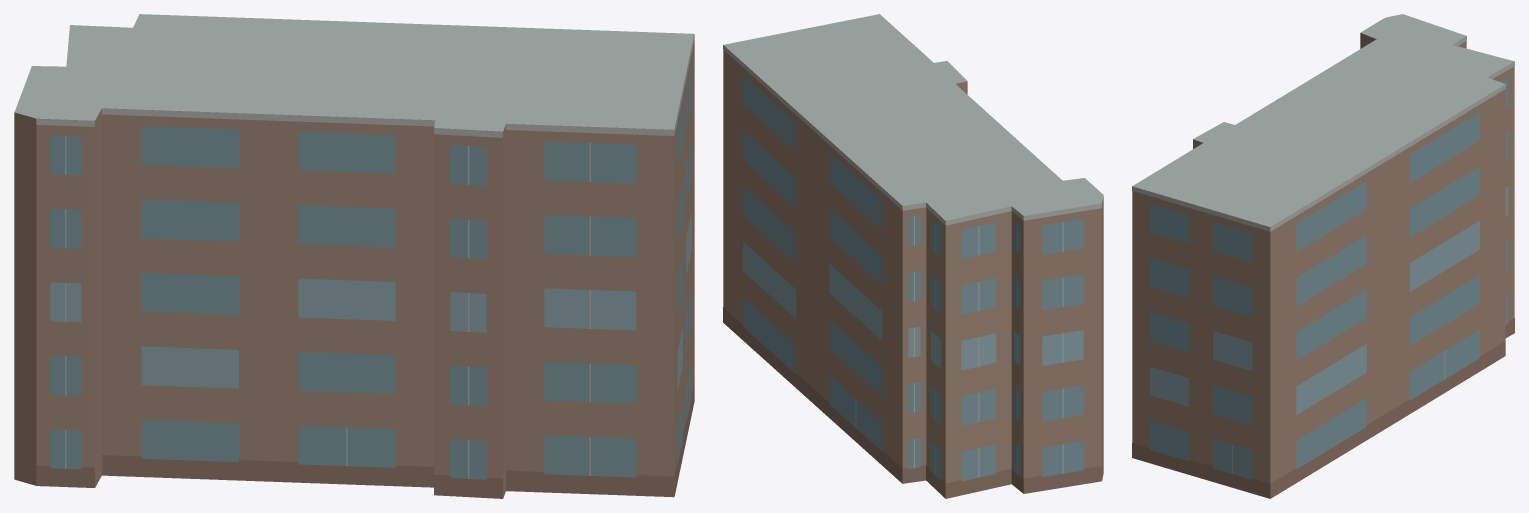
Rendered from survey-upis-32741745.glb.
The picture shows the model from 3 angles, left to right: view 1: azimuth 30°, elevation 25°; view 2: azimuth 150°, elevation 25°; view 3: azimuth 270°, elevation 25°; orthographic projection. The views are drawn at different scales.
Parts seen in each view (by area): view 1: survey-upis-32741745.tmp; view 2: survey-upis-32741745.tmp; view 3: survey-upis-32741745.tmp.
Part boxes in pixels (<box>): survey-upis-32741745.tmp: <box>14,14,694,498</box>; survey-upis-32741745.tmp: <box>723,14,1103,498</box>; survey-upis-32741745.tmp: <box>1132,14,1514,498</box>.
Size of the model in its own units: 24.07 by 14.3 by 18.26.
